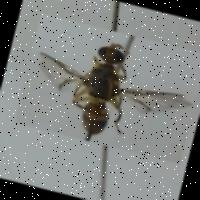Oriental-fruit-fly: (13, 13, 200, 164)
